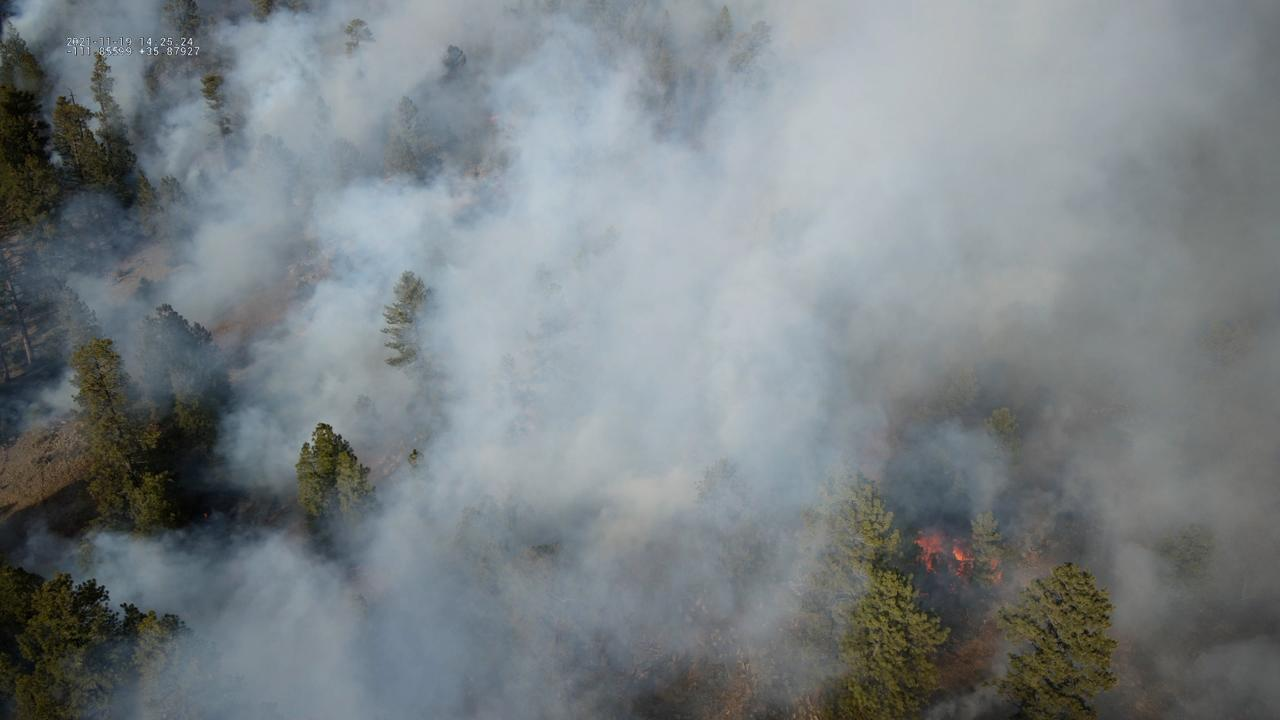fire: (914, 532, 947, 573), (951, 543, 978, 578), (989, 558, 1005, 582)
smoke: (0, 0, 1280, 720)
